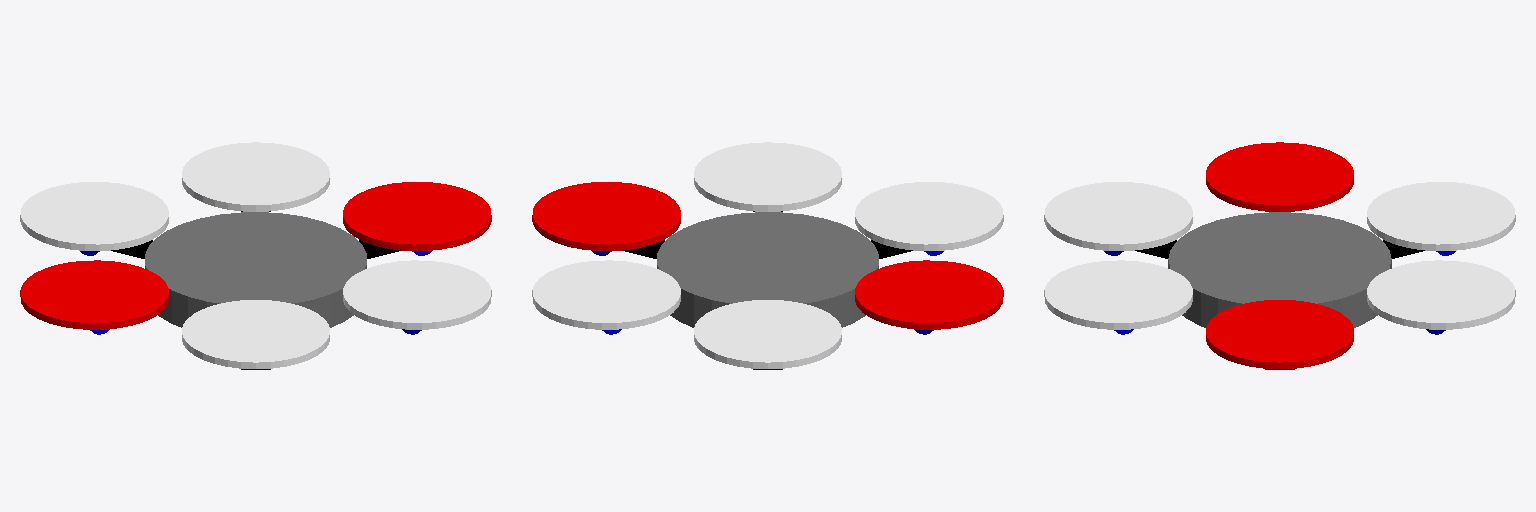
robot.urdf — altair_hexacopter:
<?xml version="1.0"?>
<robot name="altair_hexacopter">

  <!-- Base Link (Body) -->
  <link name="base_link">
    <inertial>
      <mass value="2.0"/> <!-- 2.0 kg estimate -->
      <origin rpy="0 0 0" xyz="0 0 0"/>
      <inertia ixx="0.05" ixy="0" ixz="0" iyy="0.05" iyz="0" izz="0.1"/>
    </inertial>
    <visual>
      <geometry>
        <cylinder length="0.05" radius="0.15"/>
      </geometry>
      <material name="grey">
        <color rgba="0.5 0.5 0.5 1"/>
      </material>
    </visual>
    <collision>
      <geometry>
        <cylinder length="0.05" radius="0.15"/>
      </geometry>
    </collision>
  </link>

  <!-- Macro for Arm with Tilt Mechanism -->
  <!-- 
       id: Arm ID (1-6)
       angle: Arm angle in radians
       x, y: Position of arm base
  -->
  
  <!-- Arm 1 (0 deg) -->
  <link name="arm_1">
    <visual>
        <geometry><box size="0.25 0.02 0.02"/></geometry>
        <origin xyz="0.125 0 0"/>
        <material name="black"><color rgba="0 0 0 1"/></material>
    </visual>
  </link>
  <joint name="arm_1_joint" type="fixed">
    <parent link="base_link"/>
    <child link="arm_1"/>
    <origin rpy="0 0 0" xyz="0 0 0"/>
  </joint>

  <!-- Tilt Servo 1 -->
  <link name="tilt_1_link">
     <visual>
        <geometry><cylinder length="0.04" radius="0.02"/></geometry>
        <origin rpy="1.5708 0 0" xyz="0 0 0"/> <!-- Horizontal Servo -->
        <material name="blue"><color rgba="0 0 1 1"/></material>
     </visual>
  </link>
  <joint name="tilt_1_joint" type="revolute">
    <parent link="arm_1"/>
    <child link="tilt_1_link"/>
    <origin rpy="0 0 0" xyz="0.25 0 0"/>
    <axis xyz="1 0 0"/> <!-- Tilts around arm axis -->
    <limit lower="-1.57" upper="1.57" effort="5.0" velocity="5.0"/>
  </joint>

  <!-- Motor 1 -->
  <link name="rotor_1">
    <visual>
        <geometry><cylinder length="0.01" radius="0.1"/></geometry>
        <material name="red"><color rgba="1 0 0 1"/></material>
    </visual>
  </link>
  <joint name="rotor_1_joint" type="continuous">
    <parent link="tilt_1_link"/>
    <child link="rotor_1"/>
    <origin rpy="0 0 0" xyz="0 0 0.03"/>
    <axis xyz="0 0 1"/>
  </joint>

  <!-- Arm 2 (60 deg) -->
  <link name="arm_2">
    <visual>
        <geometry><box size="0.25 0.02 0.02"/></geometry>
        <origin xyz="0.125 0 0"/>
        <material name="black"/>
    </visual>
  </link>
  <joint name="arm_2_joint" type="fixed">
    <parent link="base_link"/>
    <child link="arm_2"/>
    <origin rpy="0 0 1.0472" xyz="0 0 0"/>
  </joint>
  <link name="tilt_2_link">
     <visual>
        <geometry><cylinder length="0.04" radius="0.02"/></geometry>
        <origin rpy="1.5708 0 0" xyz="0 0 0"/>
        <material name="blue"/>
     </visual>
  </link>
  <joint name="tilt_2_joint" type="revolute">
    <parent link="arm_2"/>
    <child link="tilt_2_link"/>
    <origin rpy="0 0 0" xyz="0.25 0 0"/>
    <axis xyz="1 0 0"/>
    <limit lower="-1.57" upper="1.57" effort="5.0" velocity="5.0"/>
  </joint>
  <link name="rotor_2">
    <visual>
        <geometry><cylinder length="0.01" radius="0.1"/></geometry>
        <material name="white"><color rgba="1 1 1 1"/></material>
    </visual>
  </link>
  <joint name="rotor_2_joint" type="continuous">
    <parent link="tilt_2_link"/>
    <child link="rotor_2"/>
    <origin rpy="0 0 0" xyz="0 0 0.03"/>
    <axis xyz="0 0 1"/>
  </joint>

  <!-- Arm 3 (120 deg) -->
  <link name="arm_3">
    <visual>
        <geometry><box size="0.25 0.02 0.02"/></geometry>
        <origin xyz="0.125 0 0"/>
        <material name="black"/>
    </visual>
  </link>
  <joint name="arm_3_joint" type="fixed">
    <parent link="base_link"/>
    <child link="arm_3"/>
    <origin rpy="0 0 2.0944" xyz="0 0 0"/>
  </joint>
  <link name="tilt_3_link">
     <visual>
        <geometry><cylinder length="0.04" radius="0.02"/></geometry>
        <origin rpy="1.5708 0 0" xyz="0 0 0"/>
        <material name="blue"/>
     </visual>
  </link>
  <joint name="tilt_3_joint" type="revolute">
    <parent link="arm_3"/>
    <child link="tilt_3_link"/>
    <origin rpy="0 0 0" xyz="0.25 0 0"/>
    <axis xyz="1 0 0"/>
    <limit lower="-1.57" upper="1.57" effort="5.0" velocity="5.0"/>
  </joint>
  <link name="rotor_3">
    <visual>
        <geometry><cylinder length="0.01" radius="0.1"/></geometry>
        <material name="white"/>
    </visual>
  </link>
  <joint name="rotor_3_joint" type="continuous">
    <parent link="tilt_3_link"/>
    <child link="rotor_3"/>
    <origin rpy="0 0 0" xyz="0 0 0.03"/>
    <axis xyz="0 0 1"/>
  </joint>

  <!-- Arm 4 (180 deg) -->
  <link name="arm_4">
    <visual>
        <geometry><box size="0.25 0.02 0.02"/></geometry>
        <origin xyz="0.125 0 0"/>
        <material name="black"/>
    </visual>
  </link>
  <joint name="arm_4_joint" type="fixed">
    <parent link="base_link"/>
    <child link="arm_4"/>
    <origin rpy="0 0 3.14159" xyz="0 0 0"/>
  </joint>
  <link name="tilt_4_link">
     <visual>
        <geometry><cylinder length="0.04" radius="0.02"/></geometry>
        <origin rpy="1.5708 0 0" xyz="0 0 0"/>
        <material name="blue"/>
     </visual>
  </link>
  <joint name="tilt_4_joint" type="revolute">
    <parent link="arm_4"/>
    <child link="tilt_4_link"/>
    <origin rpy="0 0 0" xyz="0.25 0 0"/>
    <axis xyz="1 0 0"/>
    <limit lower="-1.57" upper="1.57" effort="5.0" velocity="5.0"/>
  </joint>
  <link name="rotor_4">
    <visual>
        <geometry><cylinder length="0.01" radius="0.1"/></geometry>
        <material name="red"/>
    </visual>
  </link>
  <joint name="rotor_4_joint" type="continuous">
    <parent link="tilt_4_link"/>
    <child link="rotor_4"/>
    <origin rpy="0 0 0" xyz="0 0 0.03"/>
    <axis xyz="0 0 1"/>
  </joint>

  <!-- Arm 5 (240 deg) -->
  <link name="arm_5">
    <visual>
        <geometry><box size="0.25 0.02 0.02"/></geometry>
        <origin xyz="0.125 0 0"/>
        <material name="black"/>
    </visual>
  </link>
  <joint name="arm_5_joint" type="fixed">
    <parent link="base_link"/>
    <child link="arm_5"/>
    <origin rpy="0 0 4.1888" xyz="0 0 0"/>
  </joint>
  <link name="tilt_5_link">
     <visual>
        <geometry><cylinder length="0.04" radius="0.02"/></geometry>
        <origin rpy="1.5708 0 0" xyz="0 0 0"/>
        <material name="blue"/>
     </visual>
  </link>
  <joint name="tilt_5_joint" type="revolute">
    <parent link="arm_5"/>
    <child link="tilt_5_link"/>
    <origin rpy="0 0 0" xyz="0.25 0 0"/>
    <axis xyz="1 0 0"/>
    <limit lower="-1.57" upper="1.57" effort="5.0" velocity="5.0"/>
  </joint>
  <link name="rotor_5">
    <visual>
        <geometry><cylinder length="0.01" radius="0.1"/></geometry>
        <material name="white"/>
    </visual>
  </link>
  <joint name="rotor_5_joint" type="continuous">
    <parent link="tilt_5_link"/>
    <child link="rotor_5"/>
    <origin rpy="0 0 0" xyz="0 0 0.03"/>
    <axis xyz="0 0 1"/>
  </joint>

  <!-- Arm 6 (300 deg) -->
  <link name="arm_6">
    <visual>
        <geometry><box size="0.25 0.02 0.02"/></geometry>
        <origin xyz="0.125 0 0"/>
        <material name="black"/>
    </visual>
  </link>
  <joint name="arm_6_joint" type="fixed">
    <parent link="base_link"/>
    <child link="arm_6"/>
    <origin rpy="0 0 5.2360" xyz="0 0 0"/>
  </joint>
  <link name="tilt_6_link">
     <visual>
        <geometry><cylinder length="0.04" radius="0.02"/></geometry>
        <origin rpy="1.5708 0 0" xyz="0 0 0"/>
        <material name="blue"/>
     </visual>
  </link>
  <joint name="tilt_6_joint" type="revolute">
    <parent link="arm_6"/>
    <child link="tilt_6_link"/>
    <origin rpy="0 0 0" xyz="0.25 0 0"/>
    <axis xyz="1 0 0"/>
    <limit lower="-1.57" upper="1.57" effort="5.0" velocity="5.0"/>
  </joint>
  <link name="rotor_6">
    <visual>
        <geometry><cylinder length="0.01" radius="0.1"/></geometry>
        <material name="white"/>
    </visual>
  </link>
  <joint name="rotor_6_joint" type="continuous">
    <parent link="tilt_6_link"/>
    <child link="rotor_6"/>
    <origin rpy="0 0 0" xyz="0 0 0.03"/>
    <axis xyz="0 0 1"/>
  </joint>

</robot>

--- What the picture shows (computed from the rendered views, not written in the file) ---
The picture shows the robot from 3 angles, left to right: view 1: azimuth 30°, elevation 25°; view 2: azimuth 150°, elevation 25°; view 3: azimuth 270°, elevation 25°; orthographic projection.
Robot: altair_hexacopter — 19 links, 18 joints (6 revolute, 6 continuous, 6 fixed); root link base_link; default pose: all joints at 0.
Links seen in each view (by area): view 1: base_link, rotor_4, rotor_6, rotor_1, rotor_3, rotor_5, rotor_2; view 2: base_link, rotor_2, rotor_4, rotor_1, rotor_3, rotor_5, rotor_6; view 3: base_link, rotor_6, rotor_2, rotor_1, rotor_3, rotor_5, rotor_4.
Link boxes in pixels (left/top/right/bottom): base_link: left=145, top=212, right=366, bottom=327; rotor_4: left=20, top=260, right=168, bottom=329; rotor_6: left=343, top=260, right=491, bottom=329; rotor_1: left=343, top=182, right=491, bottom=250; rotor_3: left=20, top=182, right=168, bottom=250; rotor_5: left=182, top=300, right=329, bottom=368; rotor_2: left=182, top=142, right=329, bottom=211; base_link: left=657, top=212, right=878, bottom=327; rotor_2: left=532, top=260, right=680, bottom=329; rotor_4: left=855, top=260, right=1003, bottom=329; rotor_1: left=532, top=182, right=680, bottom=250; rotor_3: left=694, top=300, right=841, bottom=368; rotor_5: left=855, top=182, right=1003, bottom=250; rotor_6: left=694, top=142, right=841, bottom=211; base_link: left=1168, top=212, right=1391, bottom=327; rotor_6: left=1044, top=260, right=1192, bottom=329; rotor_2: left=1367, top=260, right=1515, bottom=329; rotor_1: left=1206, top=300, right=1353, bottom=368; rotor_3: left=1367, top=182, right=1515, bottom=250; rotor_5: left=1044, top=182, right=1192, bottom=250; rotor_4: left=1206, top=142, right=1353, bottom=211.
Size in the robot's own frame: 0.7 by 0.6326 by 0.06 metres.
Geometry: primitives only (box / cylinder / sphere), no mesh files.